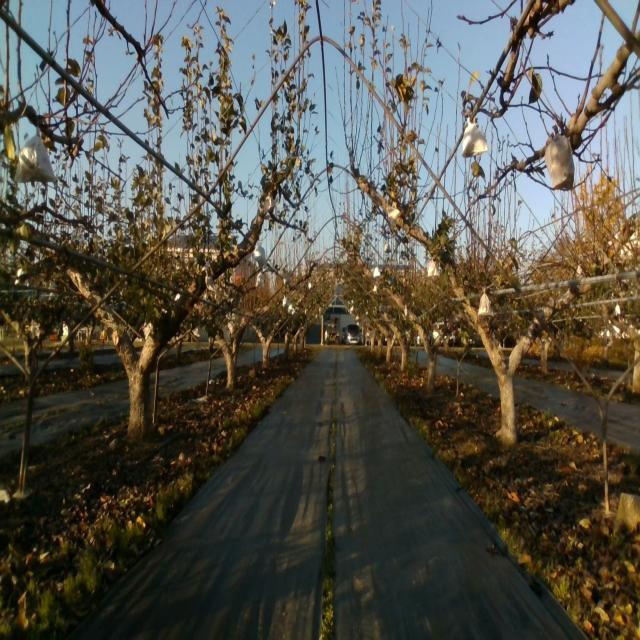pearbags: (10, 122, 58, 184), (545, 134, 575, 192), (462, 116, 489, 156), (478, 288, 494, 318), (252, 242, 266, 270), (387, 204, 402, 230), (204, 272, 218, 293), (427, 259, 440, 277), (264, 191, 274, 213)
